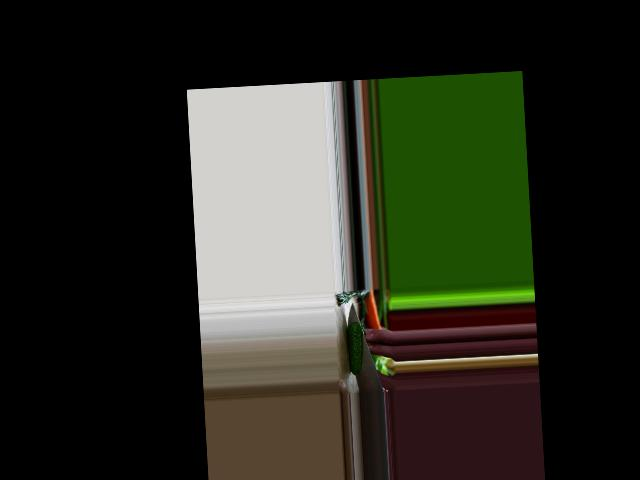cucumber: (345, 321, 364, 374)
